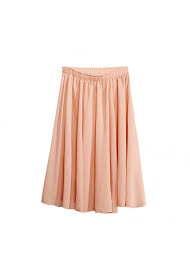C_skirt: (25, 56, 150, 220)
